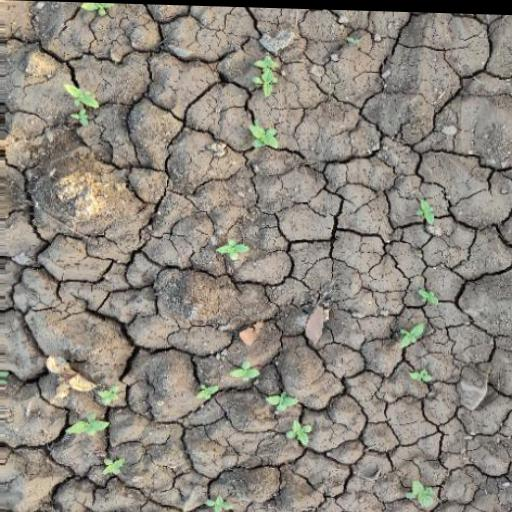crop: (62, 78, 101, 130), (388, 317, 434, 354), (244, 118, 283, 154), (251, 49, 281, 95), (406, 477, 442, 512), (68, 415, 115, 441), (228, 354, 266, 386), (287, 411, 315, 449), (413, 190, 437, 227), (215, 237, 251, 261), (101, 457, 125, 480), (203, 497, 235, 512)
